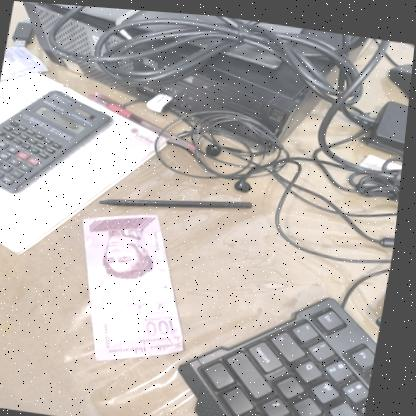one_hundred-front-vef: (65, 201, 212, 371)
